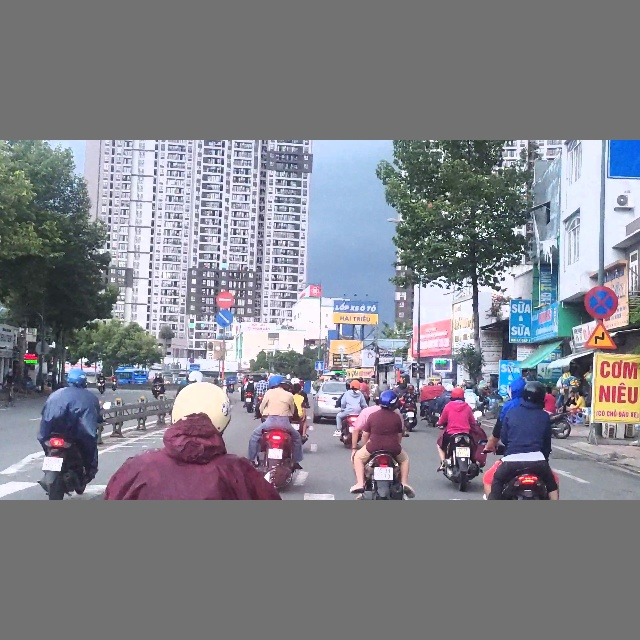I.407a: (315, 361, 325, 370)
I.434a: (395, 357, 403, 368)
P.102: (216, 291, 234, 308)
P.130: (584, 285, 620, 320)
R.302a: (215, 309, 235, 328)
W.202b: (584, 321, 617, 350)
